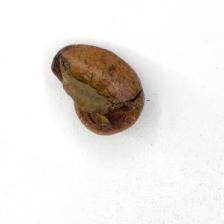NG: (52, 54, 131, 136)
